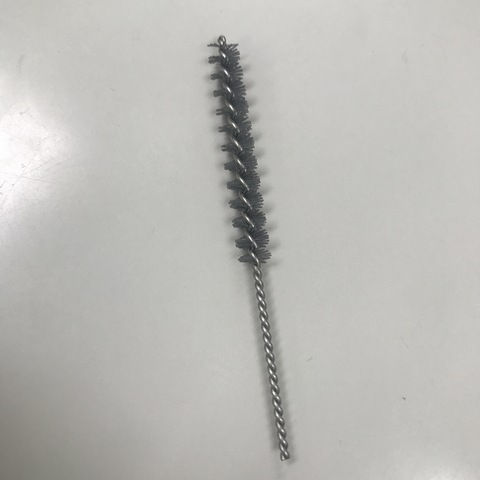Twist Brush-A: (197, 31, 294, 465)
